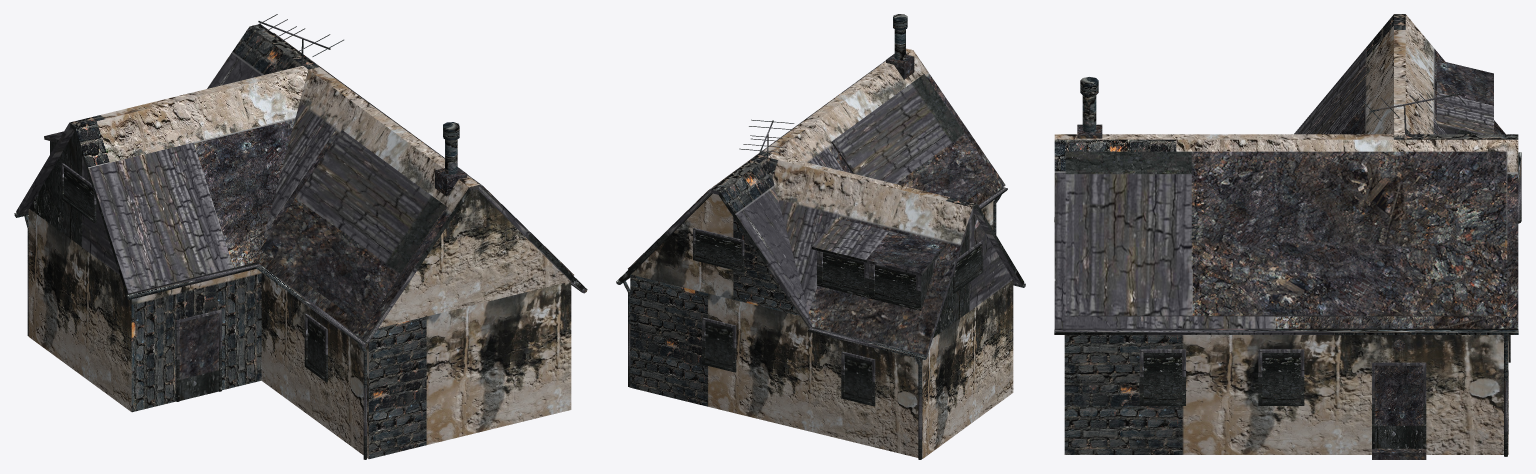
File: haus2.fbx
3 renders of one model, left to right at view 1: azimuth 30°, elevation 25°; view 2: azimuth 150°, elevation 25°; view 3: azimuth 270°, elevation 25°, orthographic. The views are drawn at different scales.
Visible parts, largest first — view 1: haus2_LOD0; view 2: haus2_LOD0; view 3: haus2_LOD0.
Boxes of the visible parts, box(x1,y1,x2,y2) form: haus2_LOD0: box(14, 14, 587, 459); haus2_LOD0: box(616, 14, 1025, 459); haus2_LOD0: box(1054, 14, 1521, 459).
Size of what is drawn, in the model's own units: 18.99 by 15.59 by 20.73.
